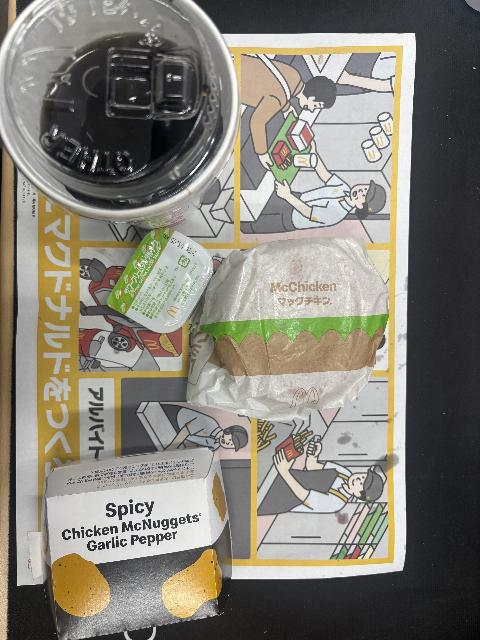burger: (187, 237, 388, 423)
drink: (0, 0, 239, 230)
nuggets: (27, 447, 234, 640)
sauce: (106, 229, 213, 334)
